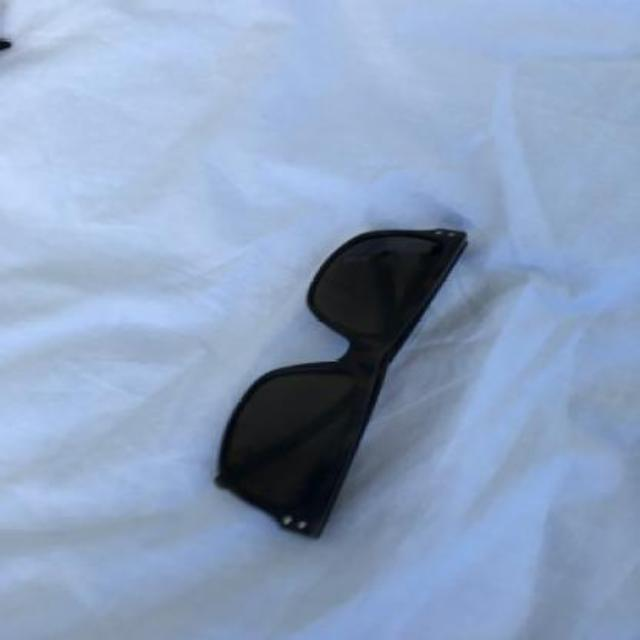glasses: (213, 228, 471, 542)
